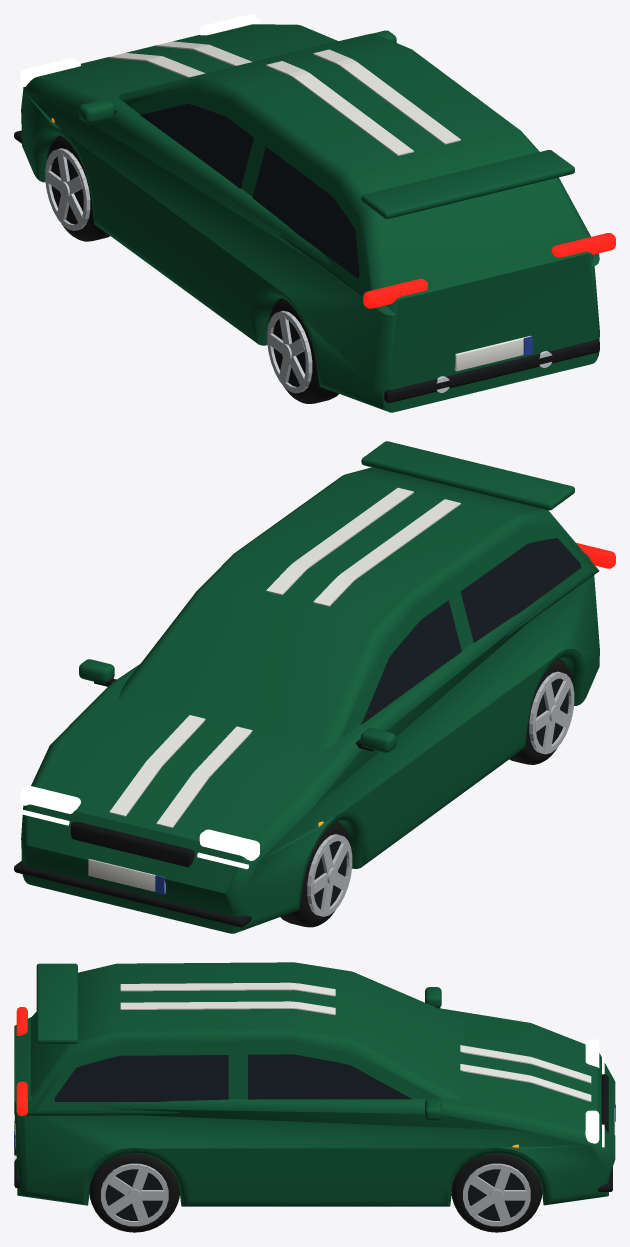
File: hatch.glb
The picture shows the model from 3 angles, top to bottom: view 1: azimuth 30°, elevation 25°; view 2: azimuth 150°, elevation 25°; view 3: azimuth 270°, elevation 25°; orthographic projection. The views are drawn at different scales.
Parts seen in each view (by area): view 1: body, cabin, win_rear_-1, roof_spoiler, win_front_-1, wheel_rear_l, wheel_front_l, diffuser, plate_-1, tail_-1, tail_1, mirror_-1 (+2 smaller); view 2: body, cabin, win_rear_-1, roof_spoiler, win_front_-1, wheel_front_l, wheel_rear_l, grille, splitter, plate_1, head_-1, head_1 (+2 smaller); view 3: body, cabin, win_rear_1, wheel_front_r, wheel_rear_r, win_front_1, roof_spoiler, head_1, grille, tail_1, head_-1.
Boxes of the visible parts, x1,y1,x2,y2 form: body: (21, 24, 599, 412); cabin: (119, 33, 599, 315); win_rear_-1: (252, 147, 359, 278); roof_spoiler: (361, 150, 574, 218); win_front_-1: (140, 104, 253, 188); wheel_rear_l: (267, 298, 338, 403); wheel_front_l: (45, 135, 109, 241); diffuser: (384, 339, 599, 402); plate_-1: (454, 335, 530, 371); tail_-1: (363, 278, 427, 308); tail_1: (551, 233, 615, 257); mirror_-1: (79, 99, 114, 123); body: (21, 554, 599, 933); cabin: (119, 467, 599, 749); win_rear_-1: (460, 538, 581, 642); roof_spoiler: (361, 441, 574, 510); win_front_-1: (361, 600, 461, 724); wheel_front_l: (280, 821, 352, 927); wheel_rear_l: (509, 659, 574, 764); grille: (70, 821, 194, 867); splitter: (14, 861, 251, 927); plate_1: (88, 859, 165, 892); head_-1: (199, 829, 259, 860); head_1: (20, 786, 80, 813); body: (14, 1008, 615, 1206); cabin: (16, 962, 463, 1116); win_rear_1: (54, 1055, 228, 1101); wheel_front_r: (451, 1153, 541, 1232); wheel_rear_r: (89, 1153, 179, 1232); win_front_1: (248, 1054, 412, 1099); roof_spoiler: (36, 963, 77, 1043); head_1: (585, 1110, 599, 1143); grille: (601, 1074, 608, 1132); tail_1: (16, 1081, 27, 1115); head_-1: (585, 1039, 599, 1067).
Size of the model in its own units: 2.12 by 1.51 by 4.35.
